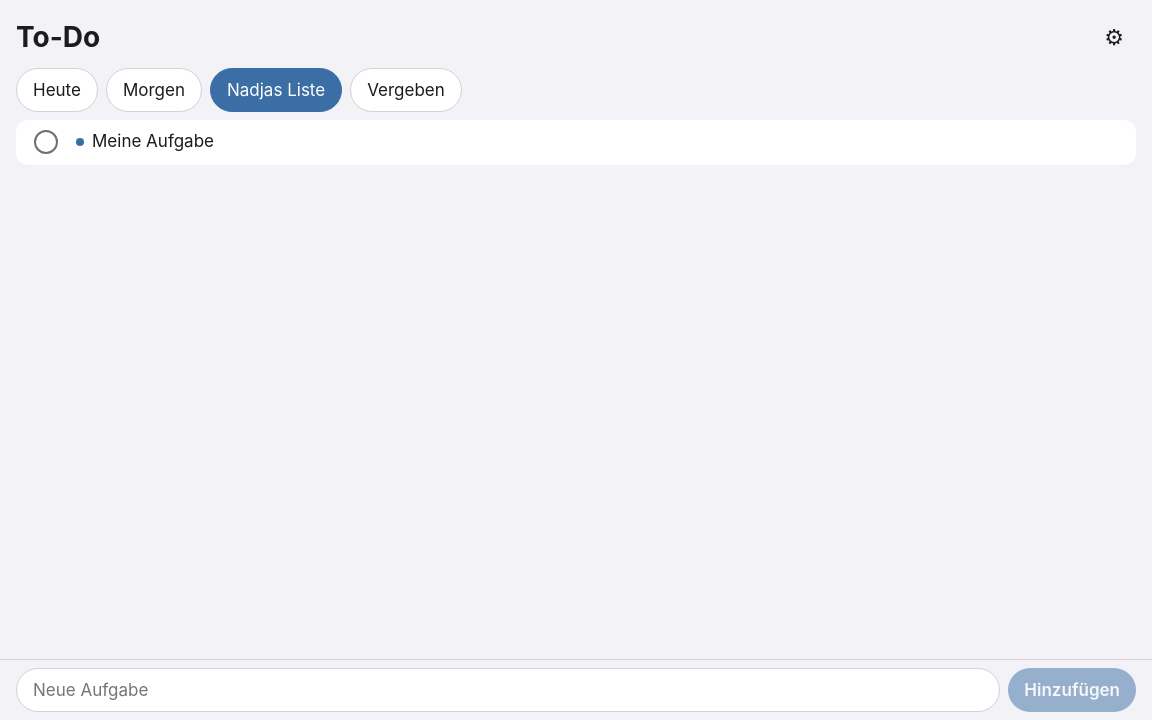
Test: App with two people › does not show the other person's own tasks in the Vergeben tab
Click the tab "Vergeben" at (406, 90), box [350,68,462,112]
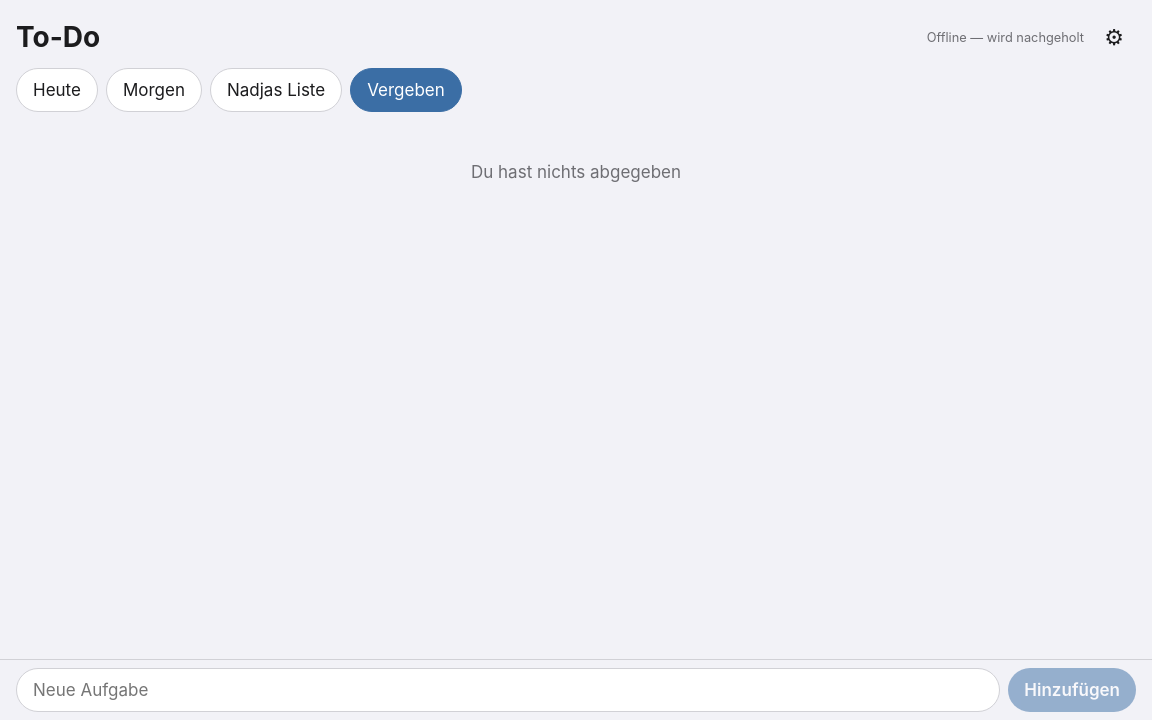
Result: the text "Du hast nichts abgegeben" is shown at [471,162,681,182]
